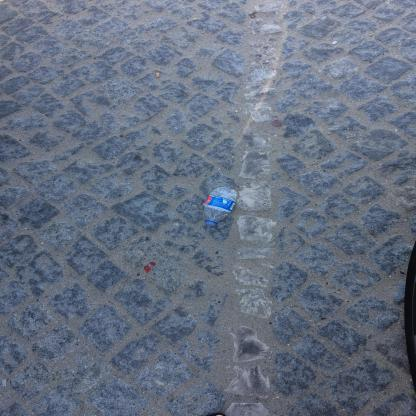plastik: (202, 186, 238, 226)
